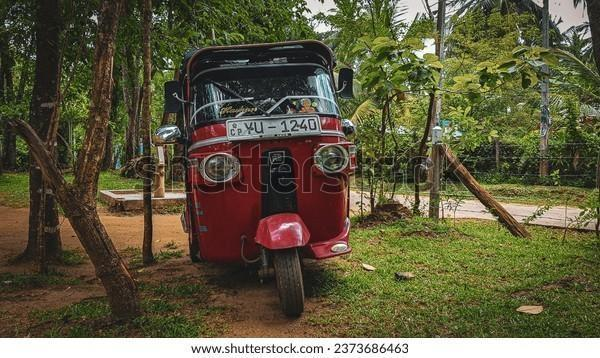keke: (153, 31, 361, 317)
